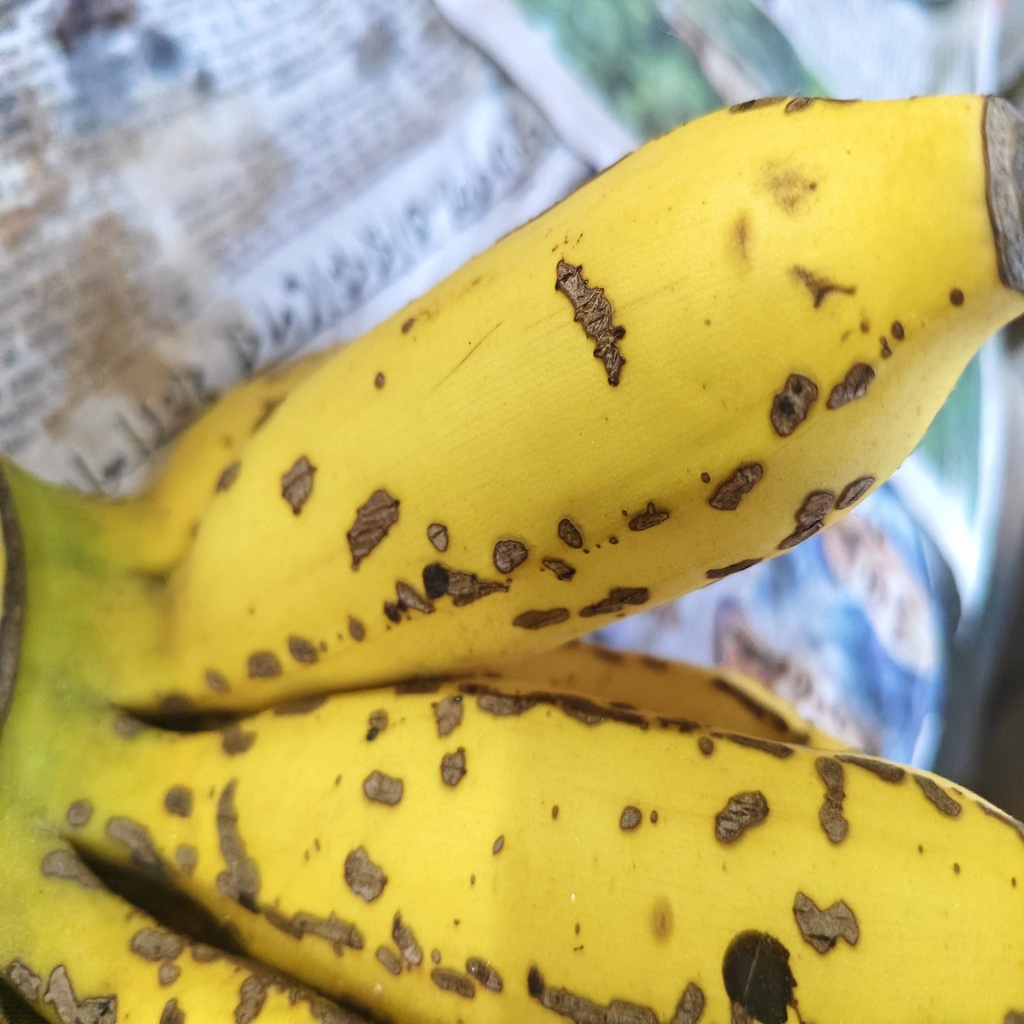unhealthy: (176, 94, 1005, 702), (153, 679, 1024, 1018)
